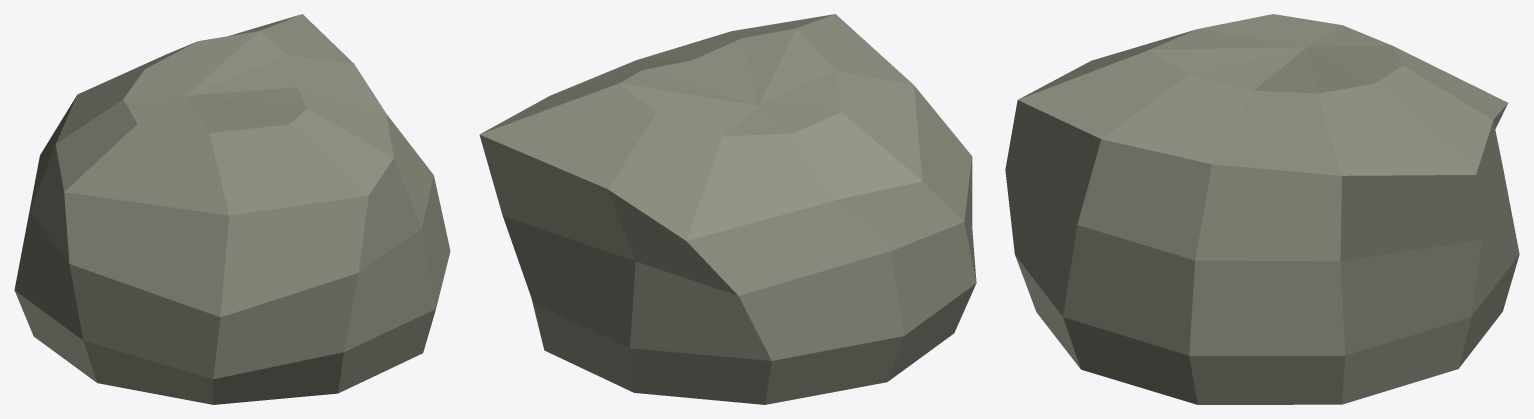
The model's file is Rock1.glb.
The picture shows the model from 3 angles, left to right: view 1: azimuth 30°, elevation 25°; view 2: azimuth 150°, elevation 25°; view 3: azimuth 270°, elevation 25°; orthographic projection. The views are drawn at different scales.
Parts seen in each view (by area): view 1: Rock -col; view 2: Rock -col; view 3: Rock -col.
Boxes of the visible parts, x1=… form: Rock -col: x1=14, y1=14, x2=450, y2=404; Rock -col: x1=479, y1=14, x2=976, y2=404; Rock -col: x1=1005, y1=14, x2=1519, y2=404.
Bounding box in the file's own units: 0.592 × 0.4305 × 0.6322.
Materials: 1 (1 with a texture image).
